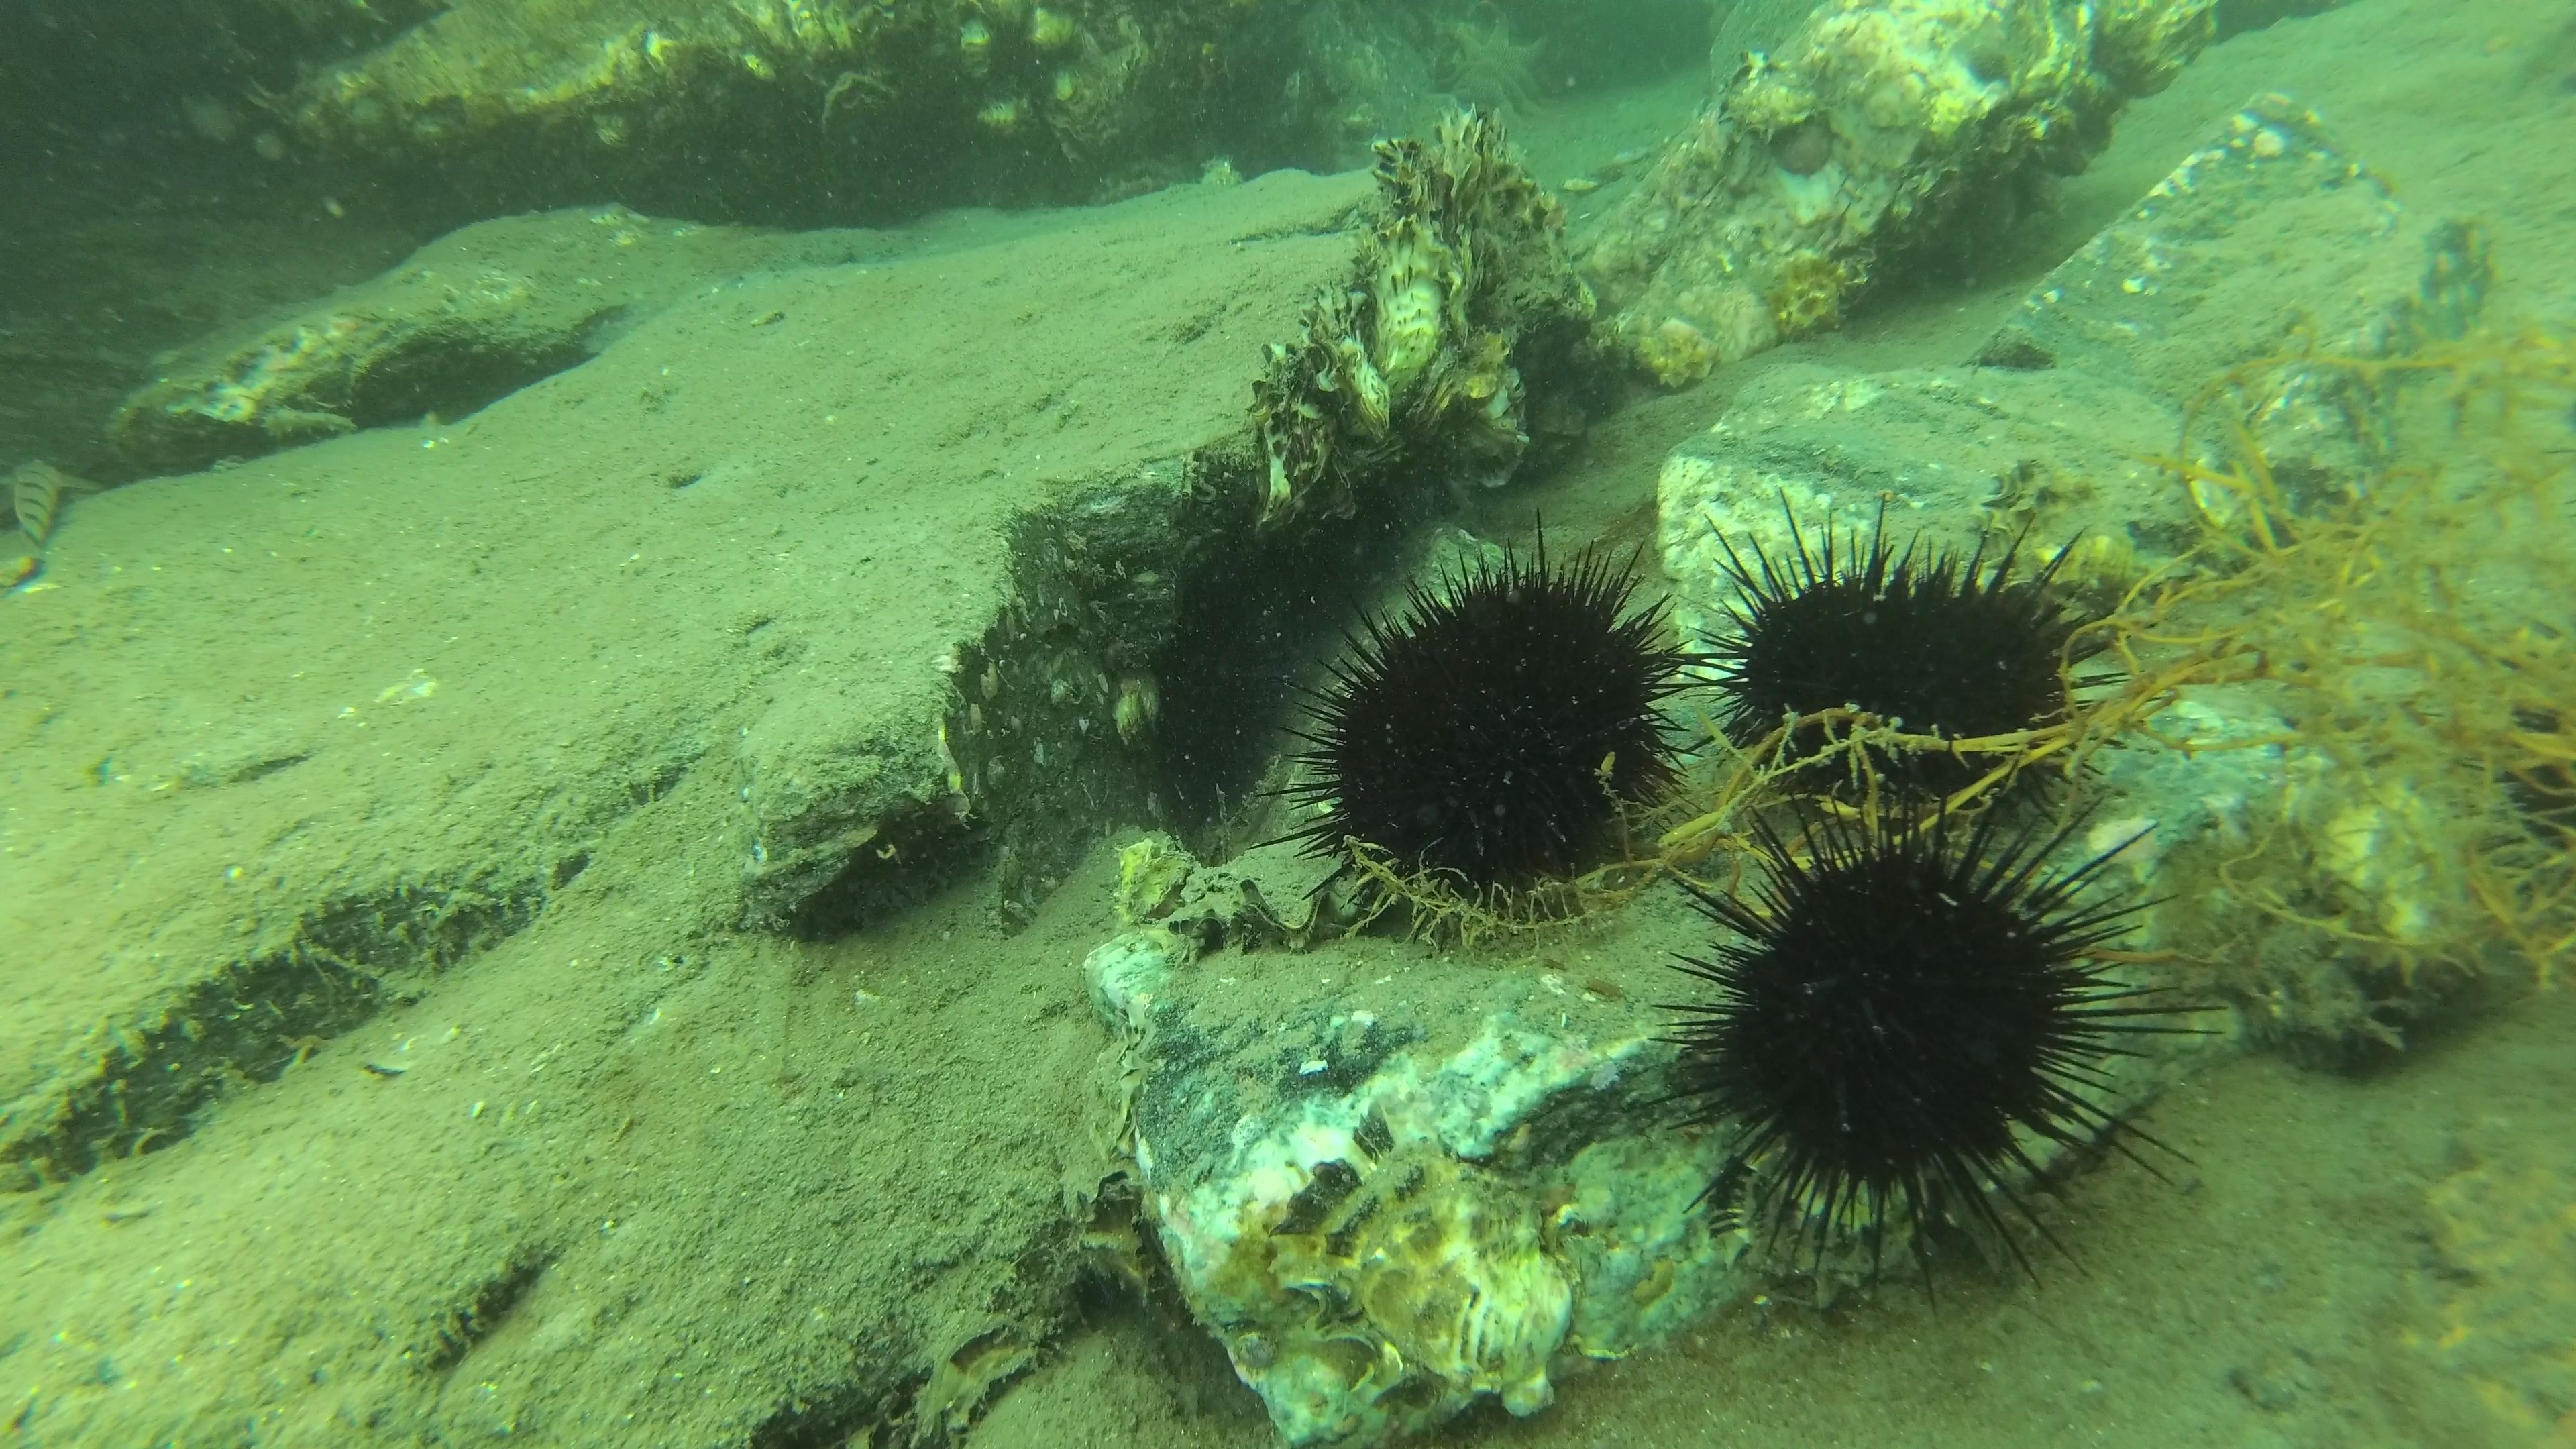echinus: (1645, 798, 2219, 1327), (1244, 518, 1704, 936), (1679, 483, 2116, 844)
